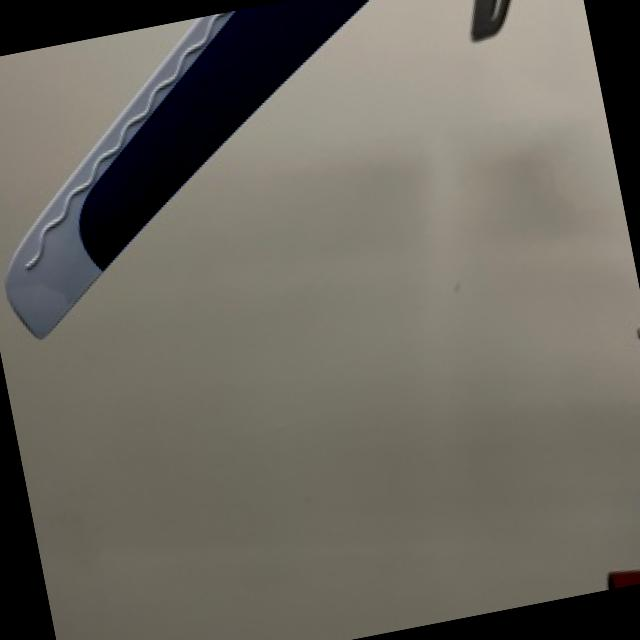healthy: (7, 15, 217, 334)
